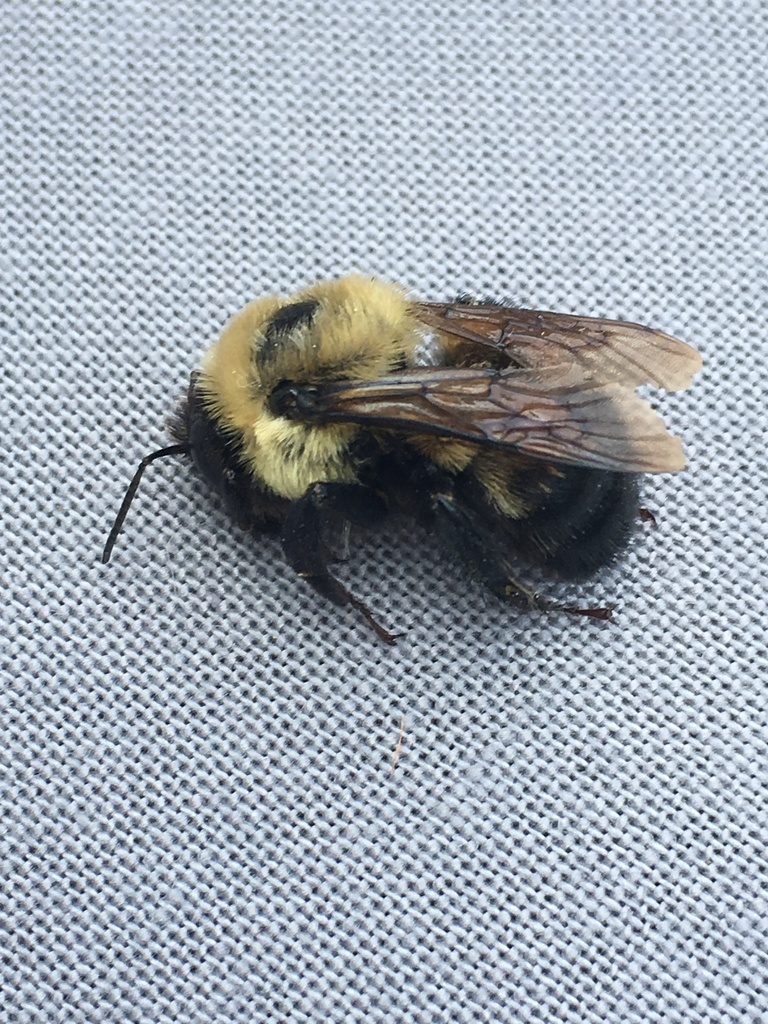bumblebee: (100, 273, 706, 651)
